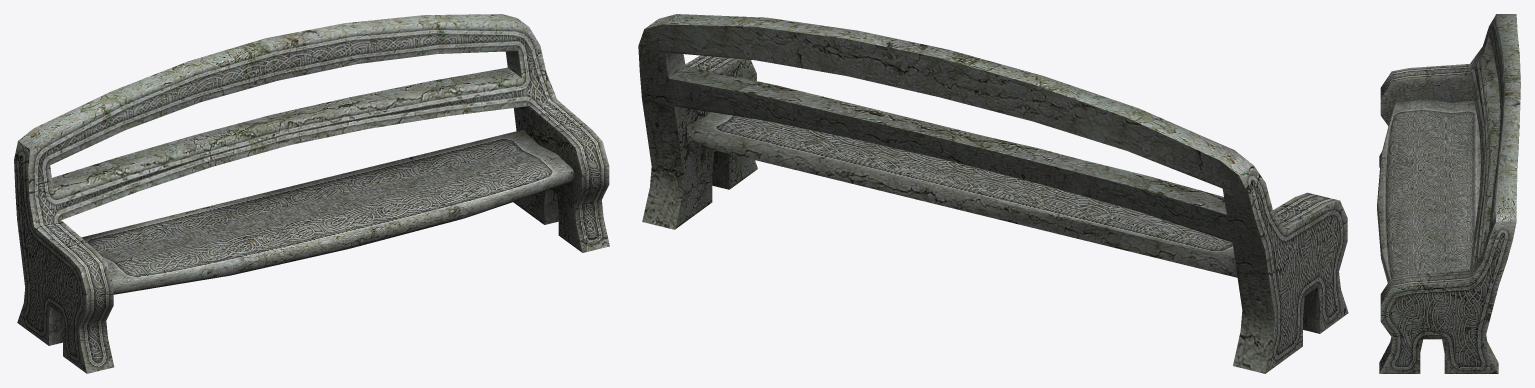
The model's file is fantasybench1.fbx.
The picture shows the model from 3 angles, left to right: view 1: azimuth 30°, elevation 25°; view 2: azimuth 150°, elevation 25°; view 3: azimuth 270°, elevation 25°; orthographic projection. The views are drawn at different scales.
Visible parts, largest first — view 1: fantasybench1; view 2: fantasybench1; view 3: fantasybench1.
Boxes of the visible parts, <box> form: fantasybench1: <box>14,14,609,373</box>; fantasybench1: <box>638,14,1348,373</box>; fantasybench1: <box>1377,14,1520,373</box>.
Bounding box in the file's own units: 3.35 × 1.29 × 0.936.
